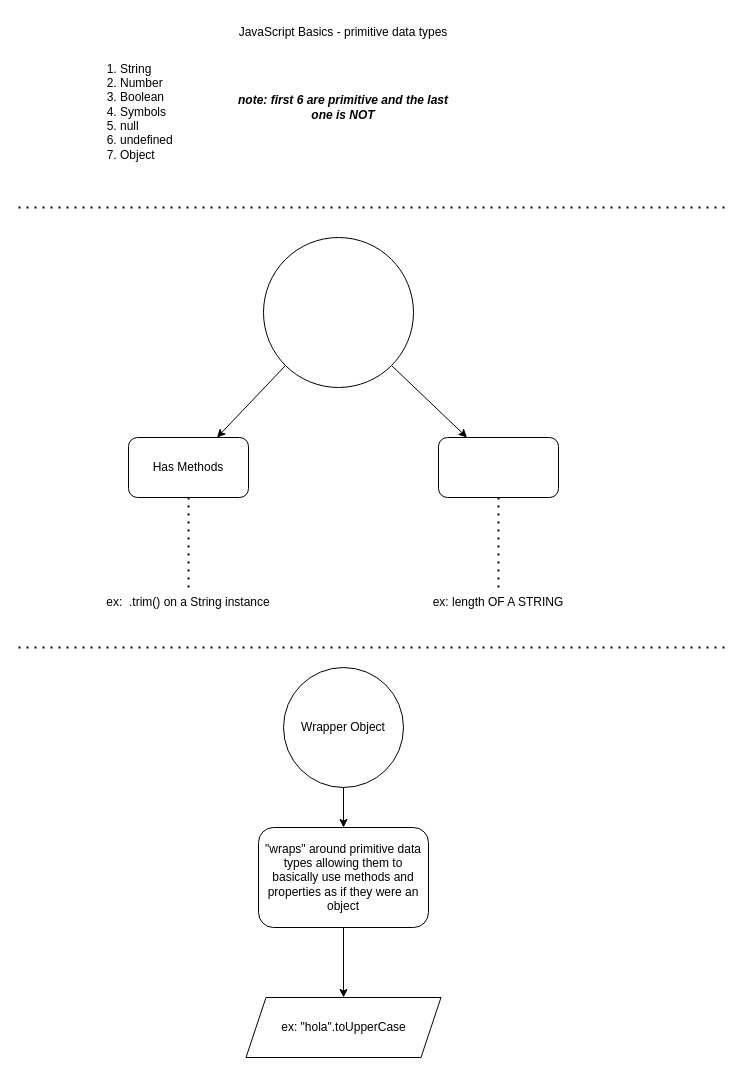
The diagram is 747 pixels wide and 1075 high, and some of its shapes have lost their labels. Here are the shapes that lost their labels. From the top down, the box of each, then its label:
(262, 236, 414, 388): data type INSTANCE
(438, 436, 558, 498): Has properties
